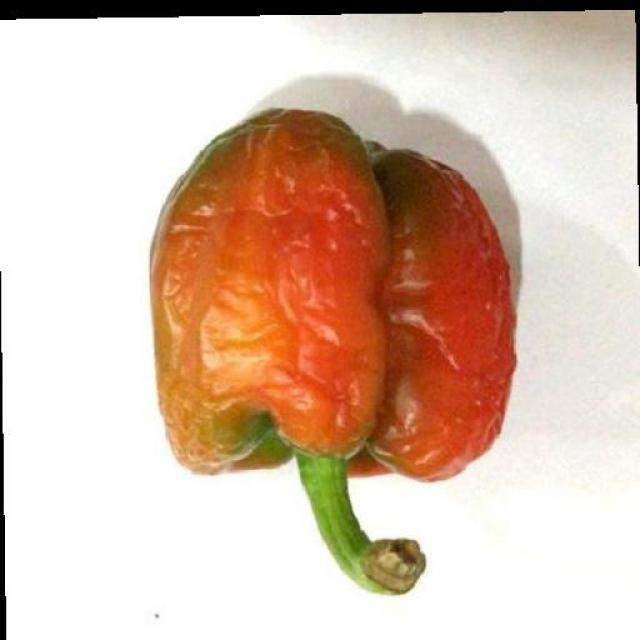Stale_Capsicum: (122, 95, 532, 595)
